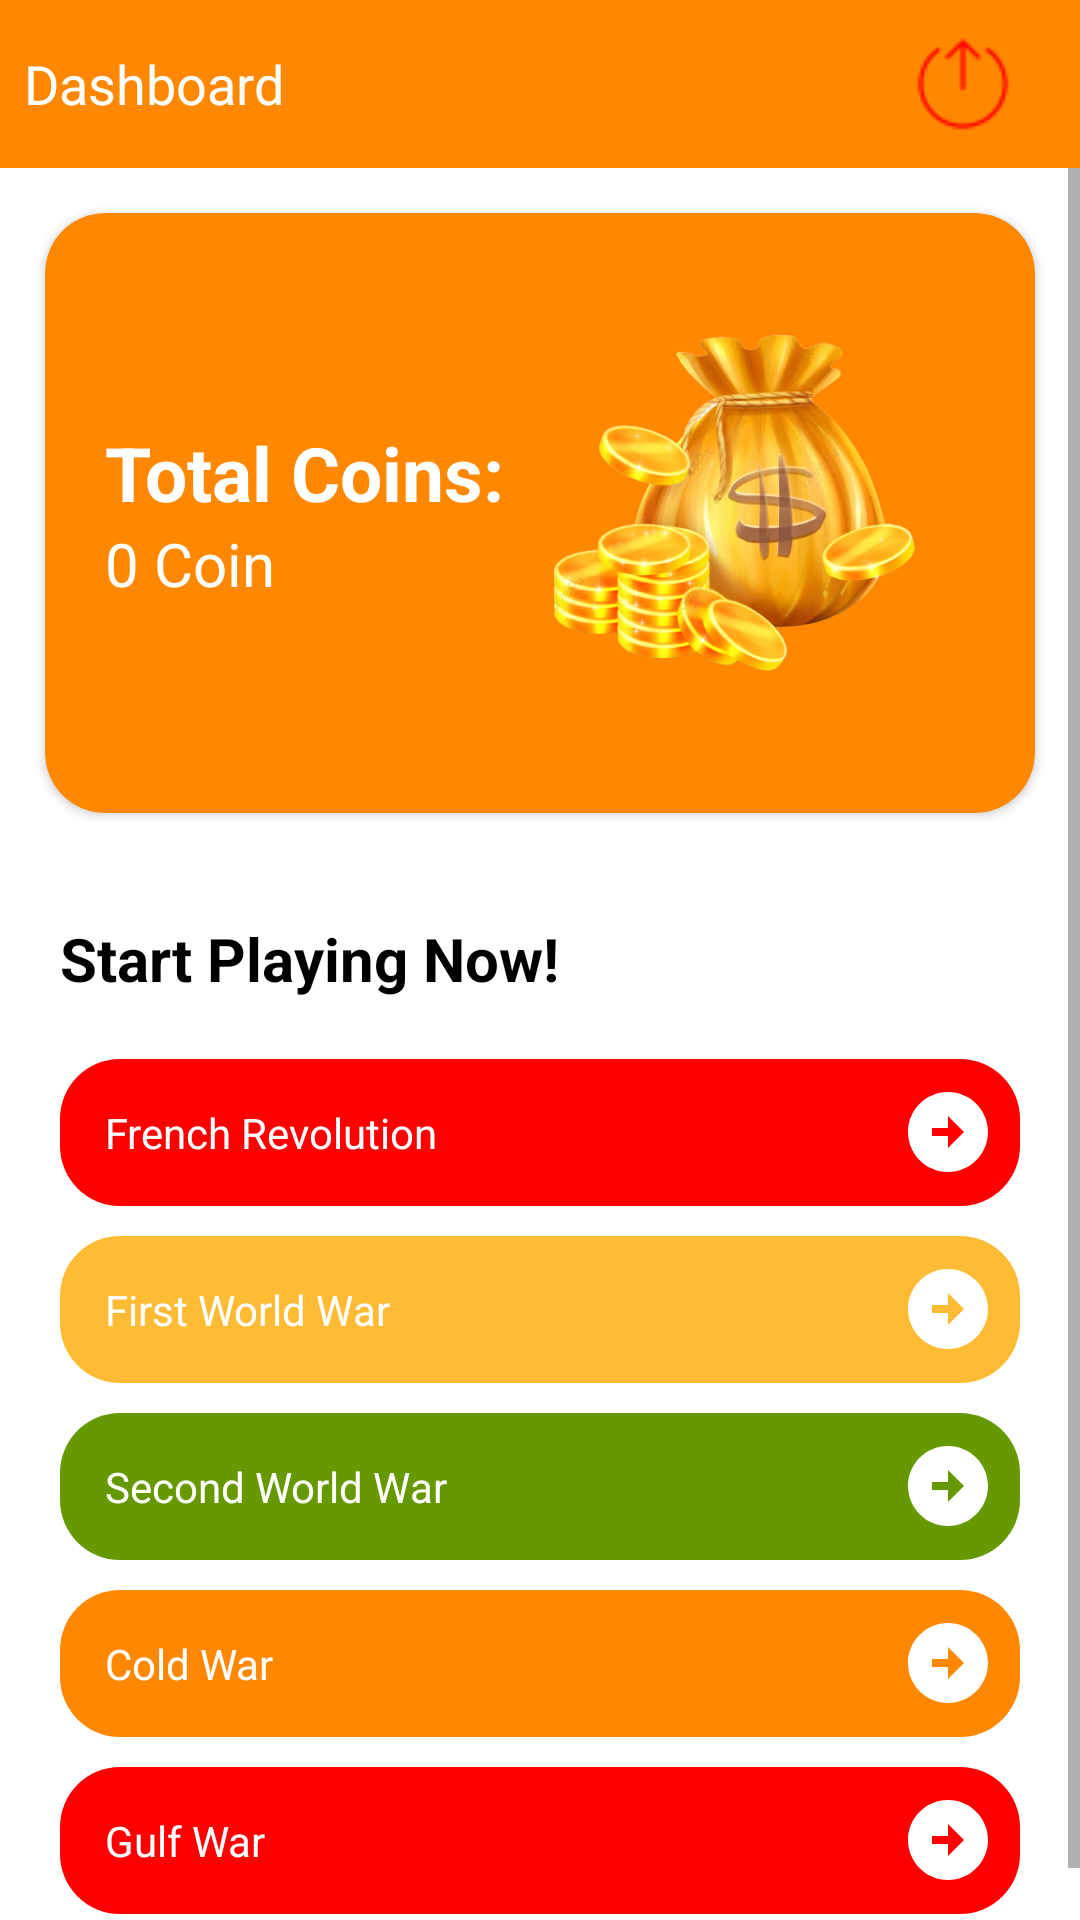

Screen size 1080×1920. Icon name, then its box in pixels as (x1, y1, x2, y2):
arrow circle right: (908, 1092, 988, 1172), (908, 1269, 988, 1349), (908, 1446, 988, 1526), (908, 1623, 988, 1703), (908, 1800, 988, 1880)
